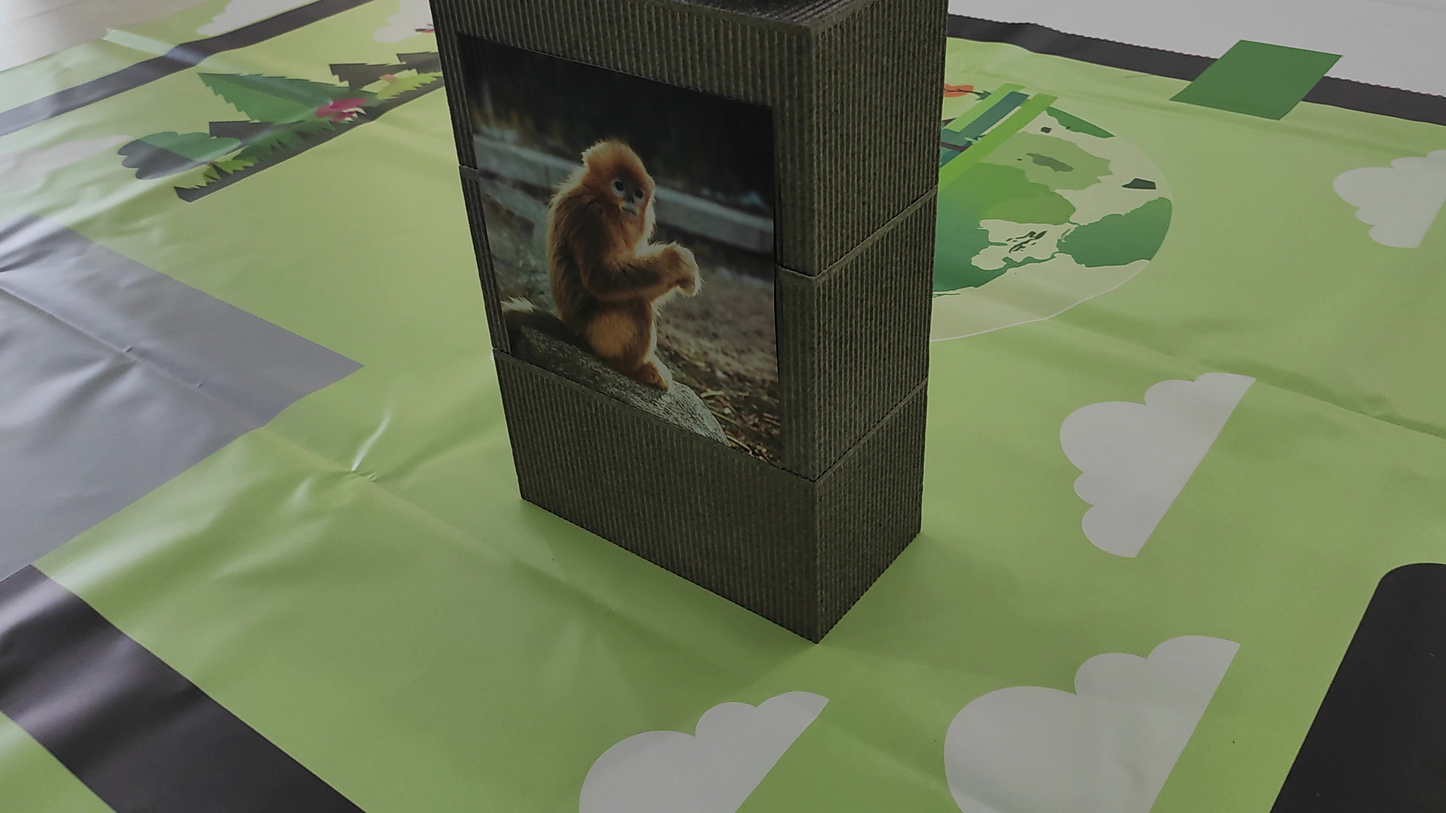monkey: (485, 135, 732, 400)
